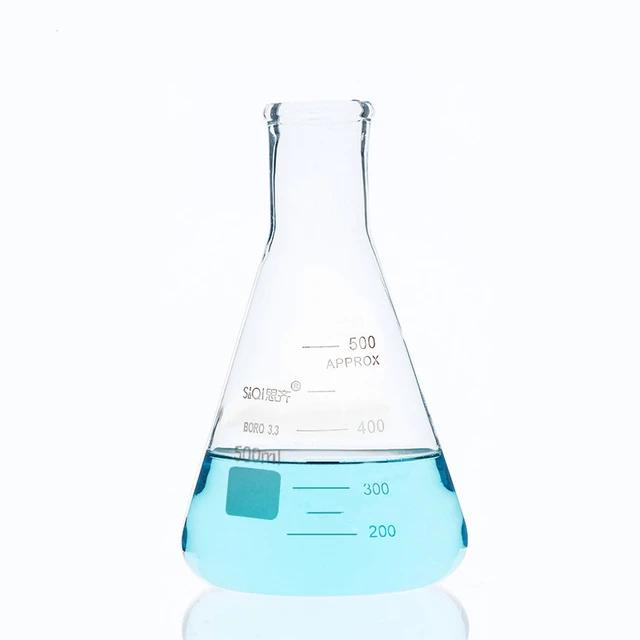Titrarion: (178, 85, 473, 589)
